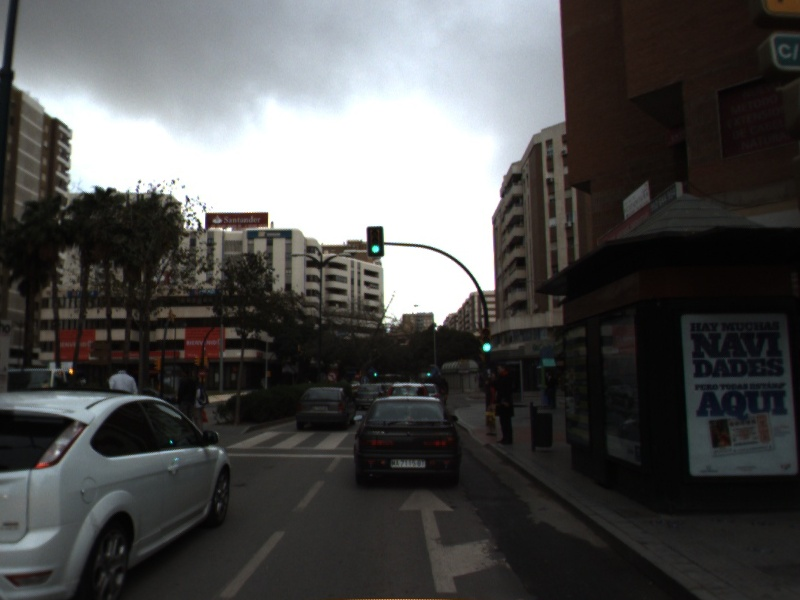STRAIGHT_RIGHT: (393, 481, 513, 595)
